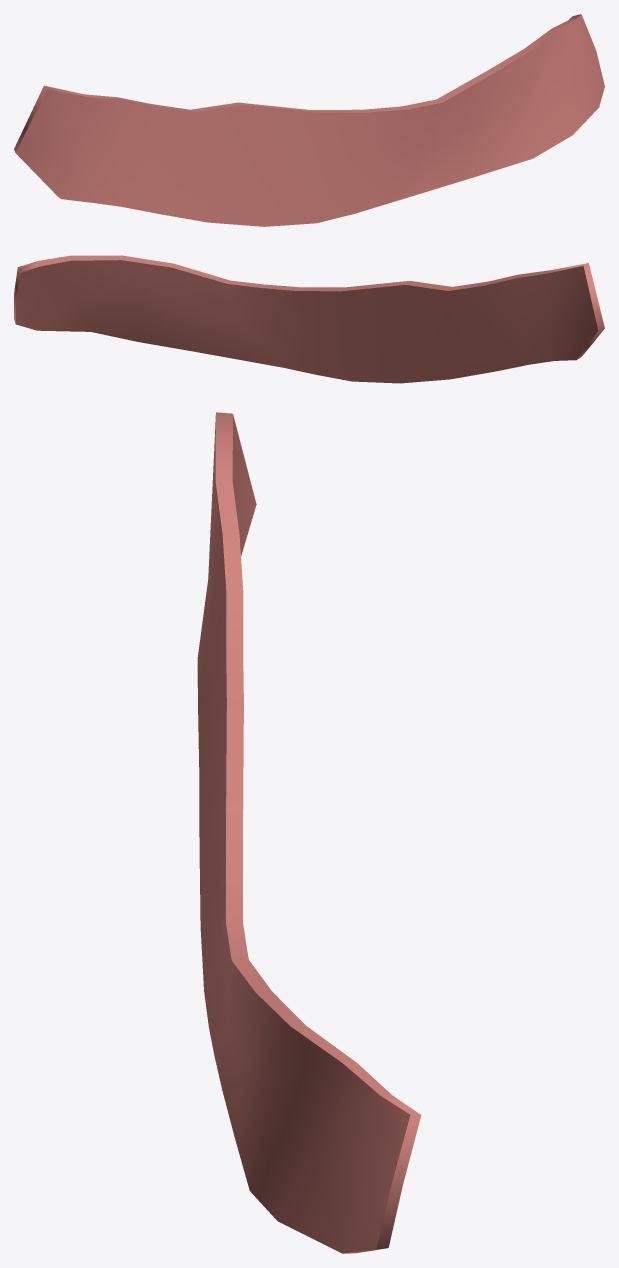
3 renders of one model, top to bottom at view 1: azimuth 30°, elevation 25°; view 2: azimuth 150°, elevation 25°; view 3: azimuth 270°, elevation 25°, orthographic. The views are drawn at different scales.
Visible parts, largest first — view 1: ZA_d2ac3625b564ec83; view 2: ZA_d2ac3625b564ec83; view 3: ZA_d2ac3625b564ec83.
Part boxes in pixels (bbox=[...]): ZA_d2ac3625b564ec83: bbox=[14, 14, 604, 226]; ZA_d2ac3625b564ec83: bbox=[14, 255, 604, 383]; ZA_d2ac3625b564ec83: bbox=[197, 412, 421, 1253].
Bounding box in the file's own units: 0.0748 × 0.0227 × 0.013.
